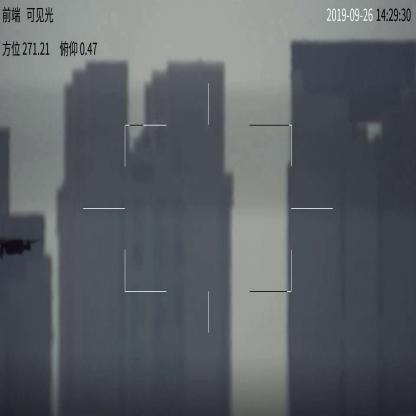uav: (1, 237, 36, 259)
